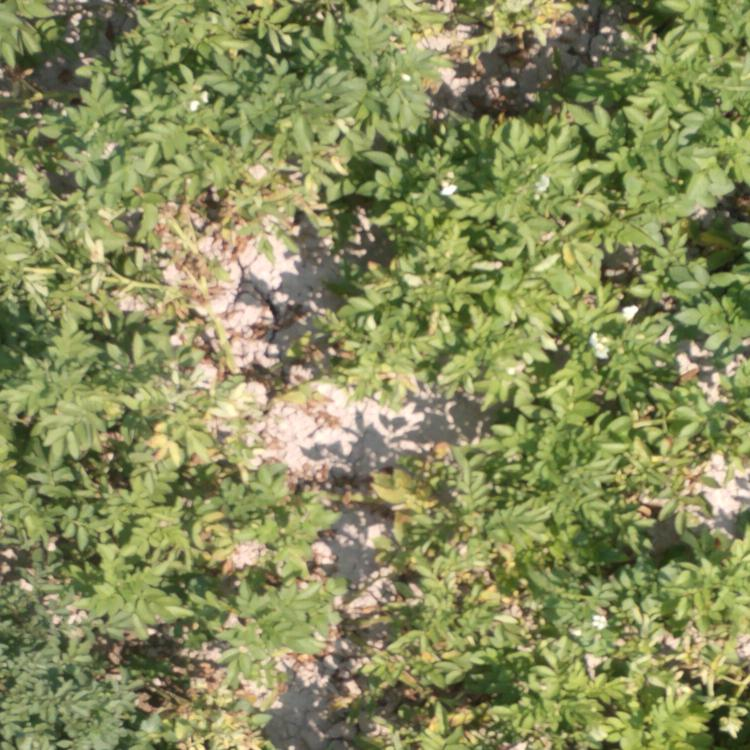healthy: (1, 227, 253, 737), (381, 415, 750, 750), (315, 221, 750, 424), (1, 1, 370, 218), (379, 6, 742, 214), (259, 452, 351, 664)
